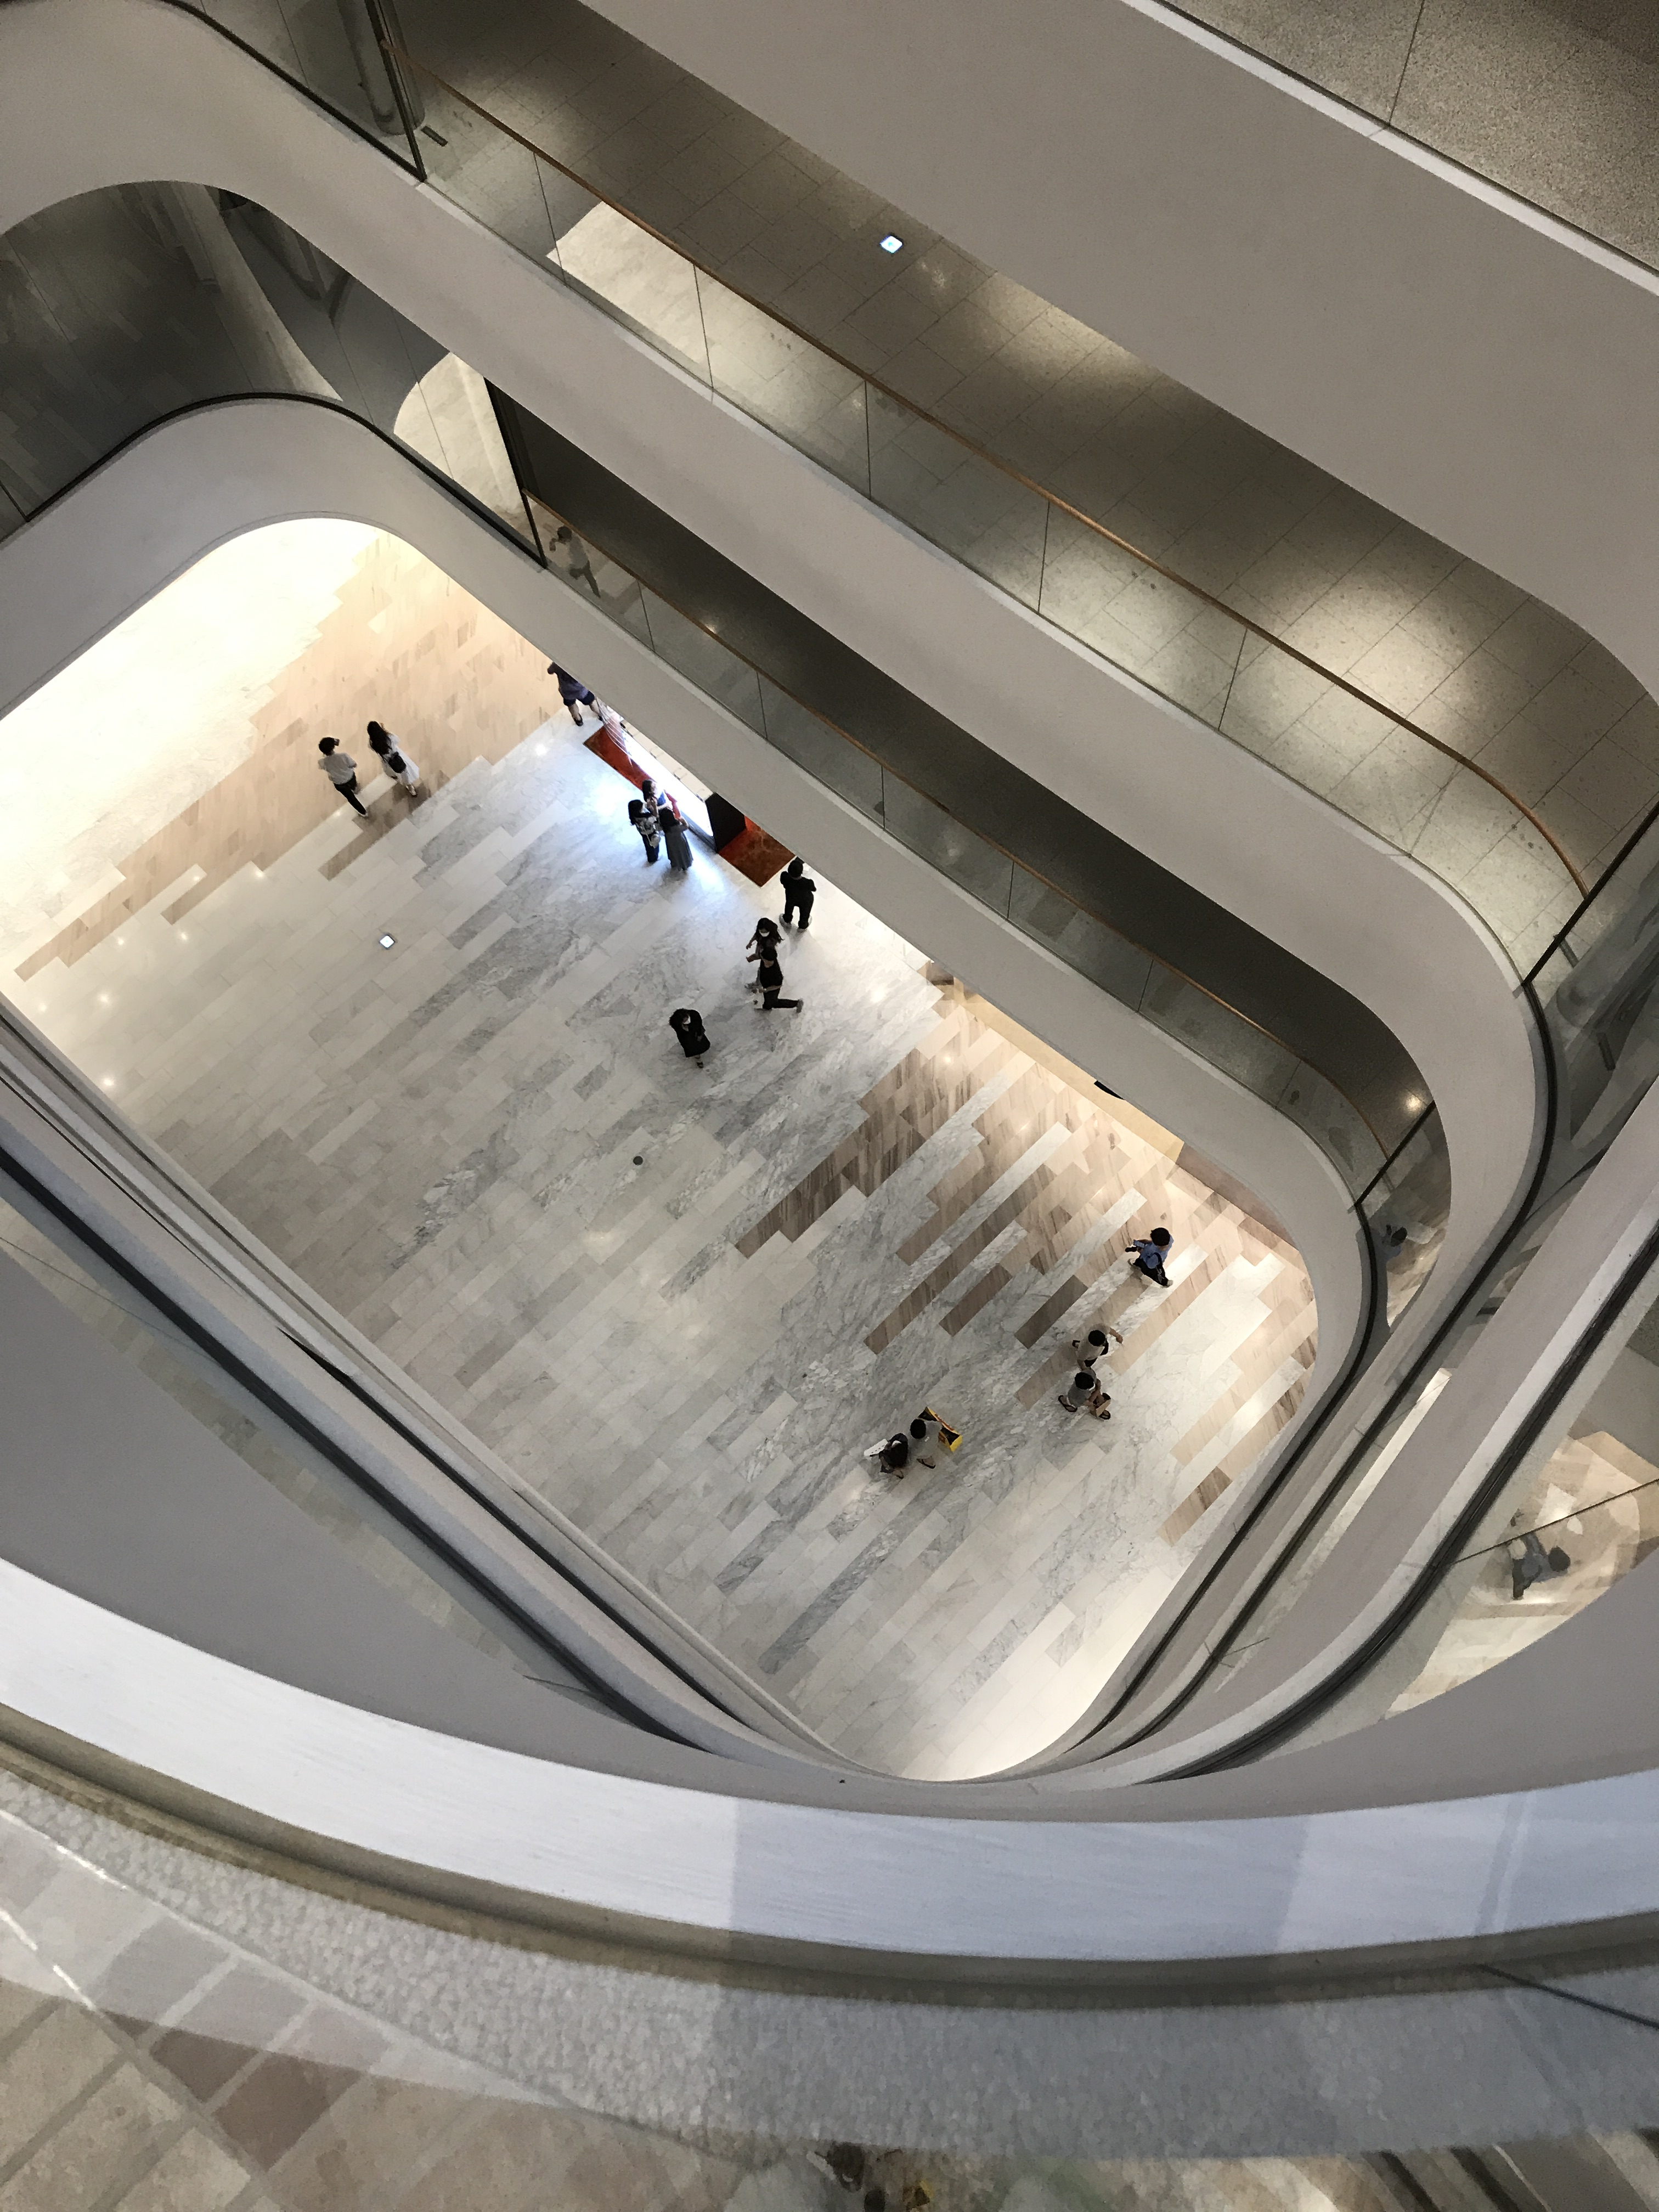person: (318, 737, 372, 821), (368, 721, 419, 798), (548, 662, 606, 726), (757, 947, 803, 1014), (1124, 1226, 1172, 1288), (1058, 1367, 1111, 1422), (657, 809, 696, 874), (780, 859, 815, 933), (669, 1008, 709, 1071), (1072, 1324, 1122, 1373), (746, 918, 778, 989), (628, 800, 660, 863), (867, 1432, 908, 1480), (905, 1418, 941, 1470), (642, 777, 669, 819)
